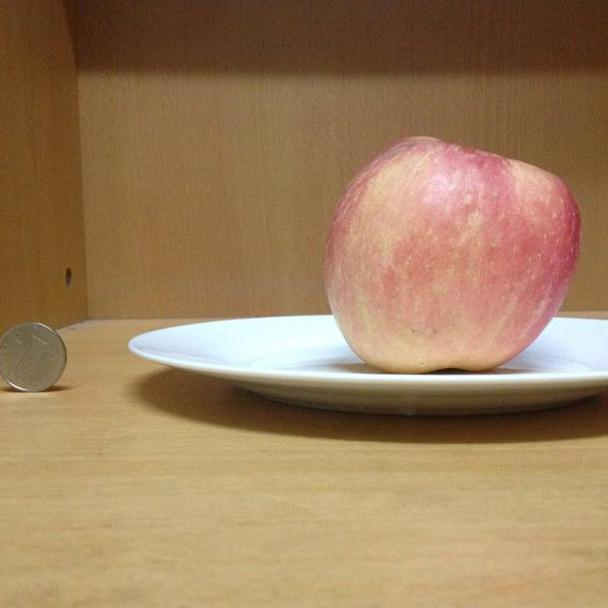apple: (323, 135, 583, 374)
